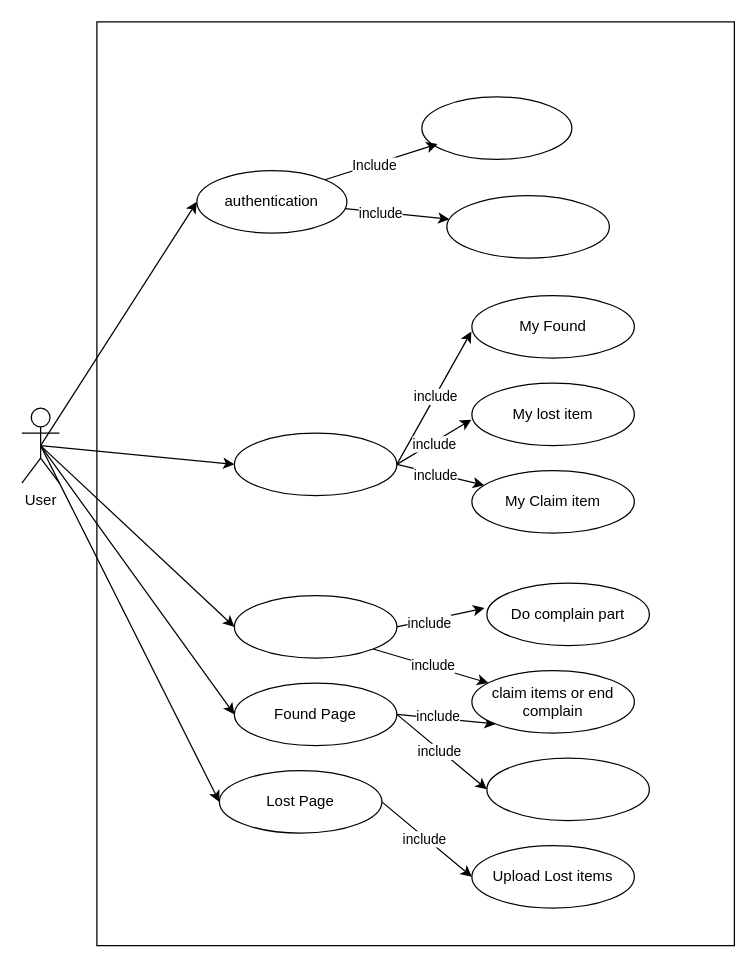
The diagram is 756 pixels wide and 968 high, and some of its shapes have lost their labels. The centre of each missing label's shape, as x and y in pixels:
"Complain Page" goes at point 315,626.
"Find item form" goes at point 567,789.
"Home Page" goes at point 315,464.
"Login" goes at point 496,127.
"Register" goes at point 527,226.
